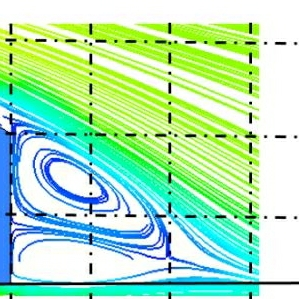vortox: (12, 120, 172, 251)
